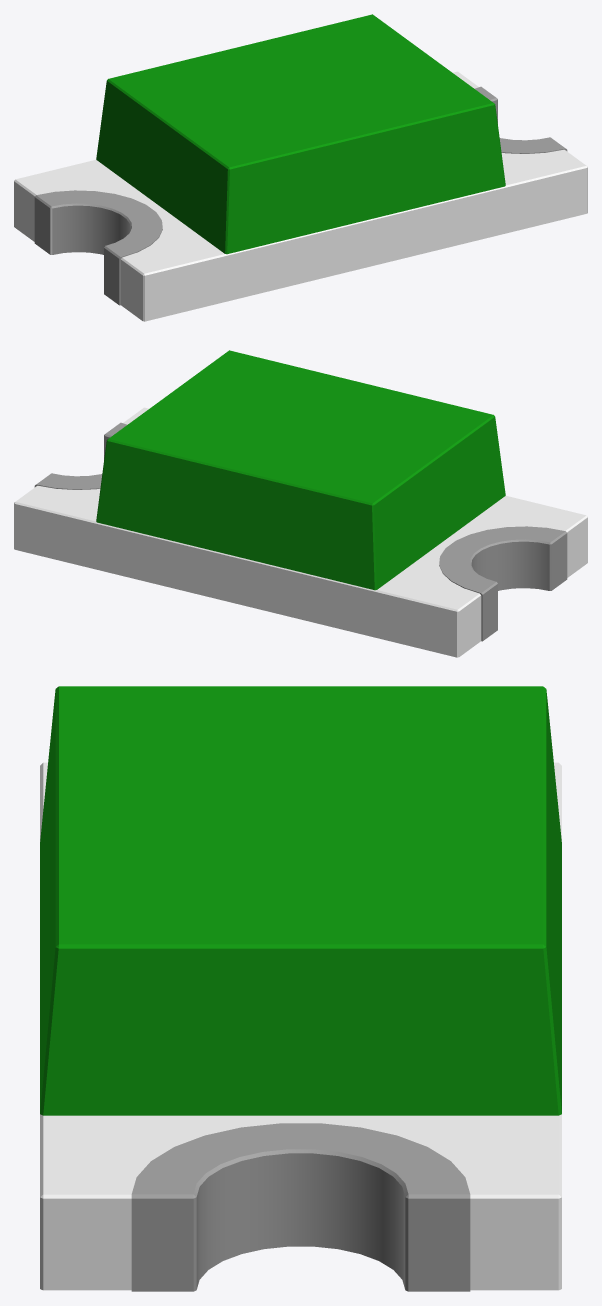
File: LED1206-GREEN.glb
3 renders of one model, top to bottom at view 1: azimuth 30°, elevation 25°; view 2: azimuth 150°, elevation 25°; view 3: azimuth 270°, elevation 25°, orthographic. The views are drawn at different scales.
Visible parts, largest first — view 1: LED_1206_Green; view 2: LED_1206_Green; view 3: LED_1206_Green.
Part boxes in pixels (bbox=[...]): LED_1206_Green: bbox=[14, 14, 587, 321]; LED_1206_Green: bbox=[14, 350, 587, 657]; LED_1206_Green: bbox=[40, 686, 561, 1291].
Size of the model in its own units: 0.00327 by 0.0009 by 0.00165.
